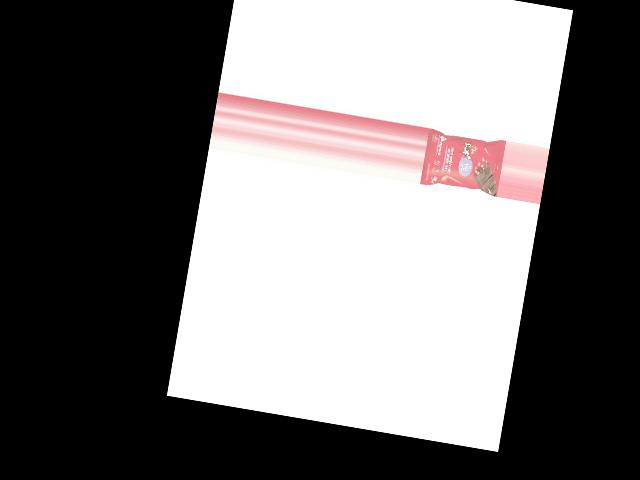chocolate: (419, 129, 505, 197)
